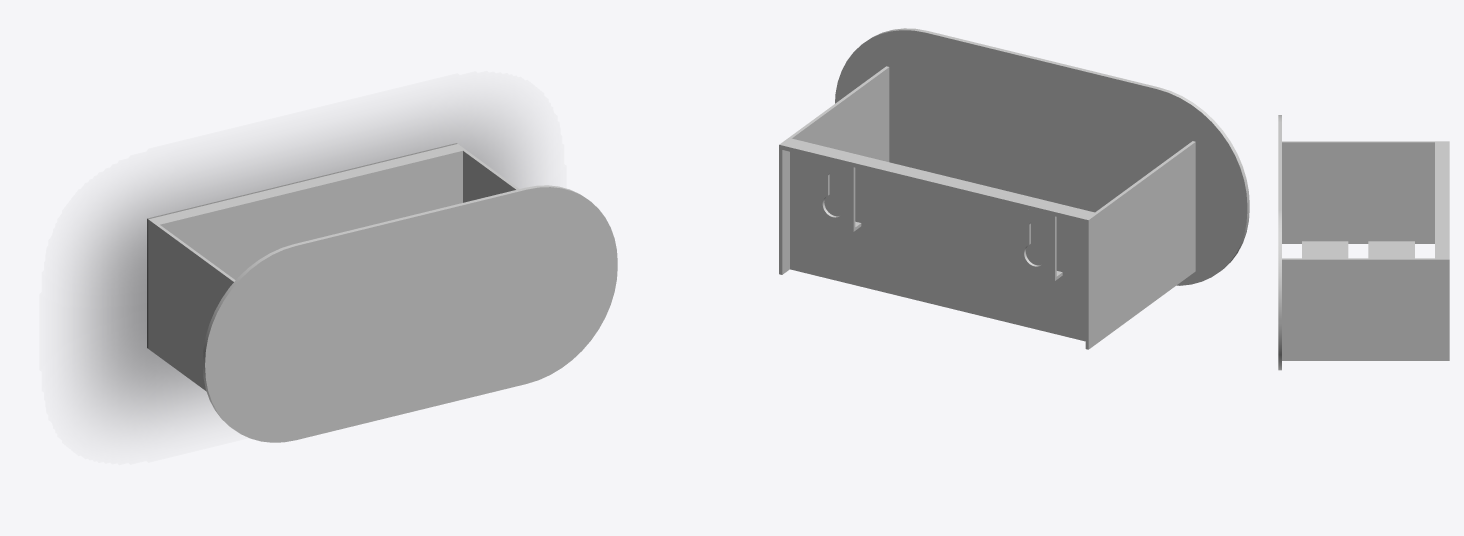
The model's file is round-mono.78d5db7bd1.ar.glb.
3 views of the same model, side by side, from view 1: azimuth 30°, elevation 25°; view 2: azimuth 150°, elevation 25°; view 3: azimuth 270°, elevation 25° (orthographic). The views are drawn at different scales.
Parts seen in each view (by area): view 1: NAUO1, object 2; view 2: NAUO1; view 3: NAUO1.
Boxes of the visible parts, x1,y1,x2,y2 form: NAUO1: [147, 143, 617, 442]; object 2: [79, 117, 526, 418]; NAUO1: [779, 28, 1249, 349]; NAUO1: [1278, 115, 1449, 370].
Bounding box in the file's own units: 0.28 × 0.17 × 0.092.
2 materials, 1 textured.
